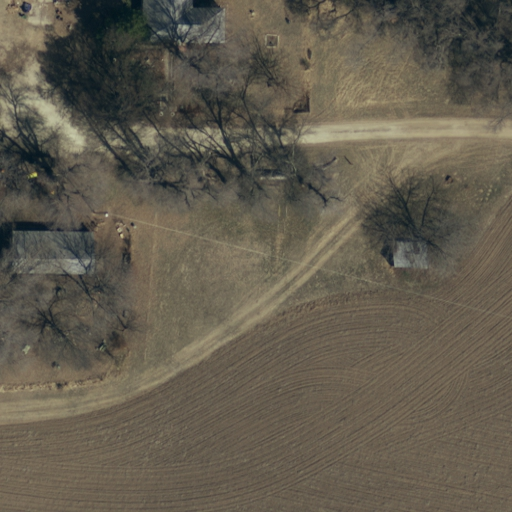DT: (87, 200, 114, 225)
